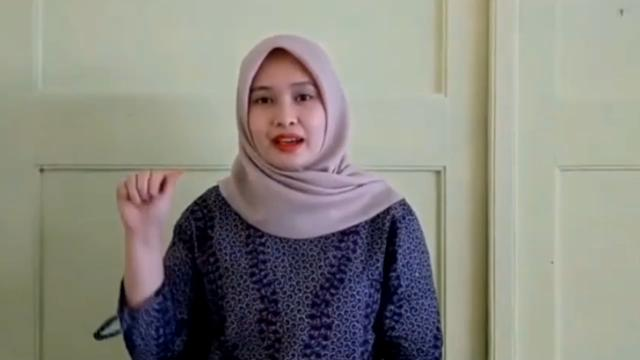A: (114, 166, 186, 232)
